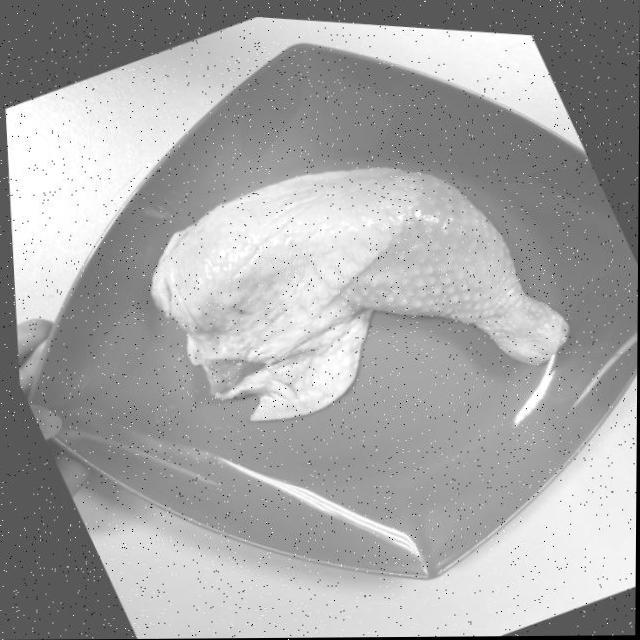quater: (150, 162, 582, 404)
